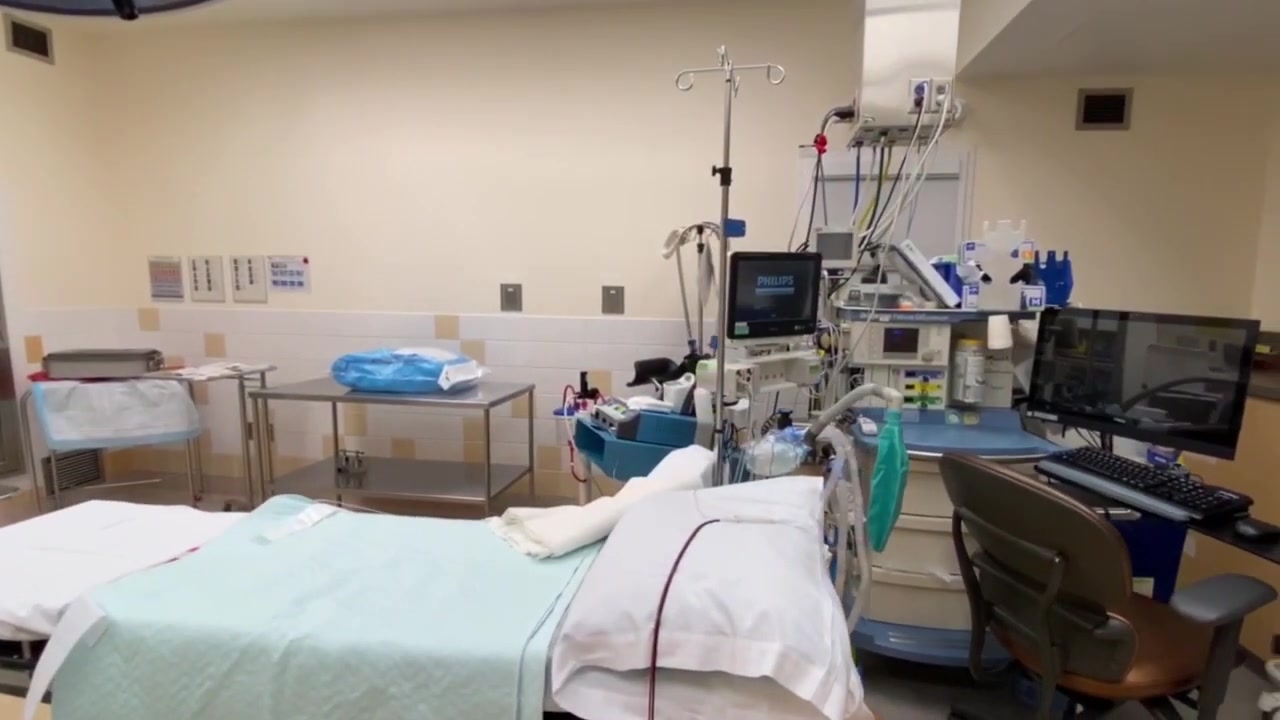bedside_monitor: (730, 249, 823, 341), (811, 227, 863, 270)
breathing_tube: (803, 391, 913, 649)
chair: (936, 448, 1280, 720)
computer: (1025, 304, 1263, 464)
electrosurgical_unit: (592, 394, 695, 449)
iv_pole: (678, 44, 787, 491), (662, 212, 721, 360)
keyboard: (1031, 445, 1257, 527)
medical_drawer: (852, 414, 1041, 673)
mouse: (1232, 517, 1280, 546)
operating_bed: (1, 472, 882, 720)
utility_cart: (247, 370, 536, 519), (142, 361, 275, 513)
